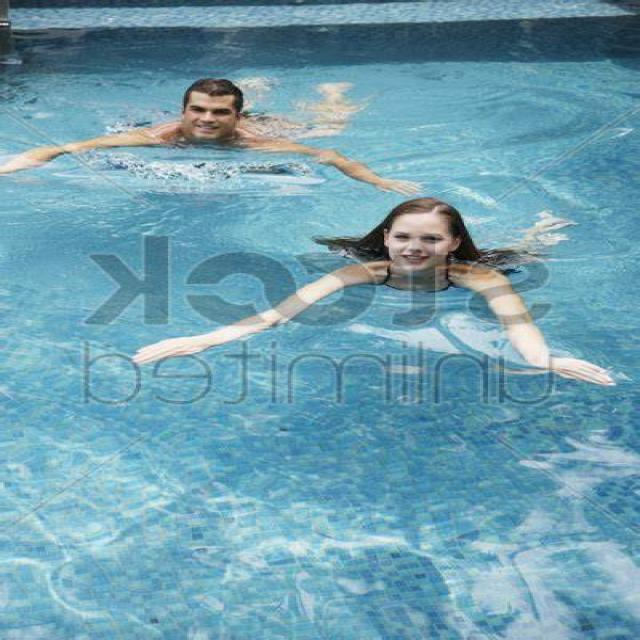swimming: (123, 203, 581, 439), (0, 60, 430, 206)
